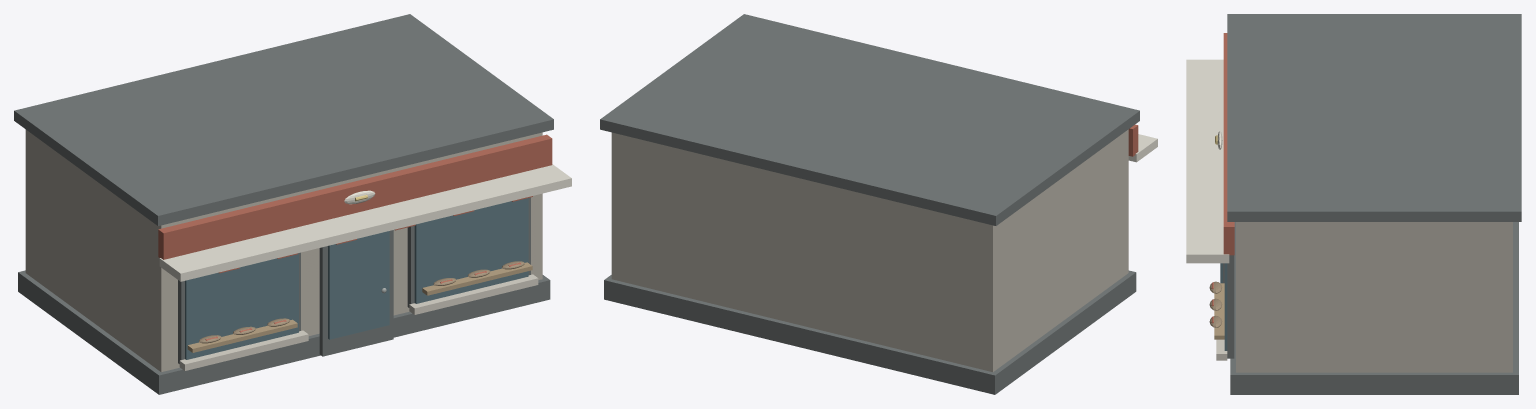
File: sandal-shop.glb
3 renders of one model, left to right at view 1: azimuth 30°, elevation 25°; view 2: azimuth 150°, elevation 25°; view 3: azimuth 270°, elevation 25°, orthographic. The views are drawn at different scales.
Parts seen in each view (by area): view 1: dark plinth, masonry shell, shop glass, fascia, awning, sill, display shelf, sandal sole; view 2: masonry shell, dark plinth; view 3: dark plinth, masonry shell, awning, fascia, shop glass, display shelf, sandal sole.
Part boxes in pixels (x1,y1,x2,y2): dark plinth: (14, 14, 553, 394); masonry shell: (25, 129, 542, 372); shop glass: (185, 198, 528, 359); fascia: (158, 134, 552, 340); awning: (159, 164, 571, 281); sill: (179, 274, 538, 370); display shelf: (187, 262, 532, 352); sandal sole: (199, 261, 524, 343); masonry shell: (611, 129, 1128, 371); dark plinth: (600, 14, 1139, 394); dark plinth: (1223, 14, 1521, 394); masonry shell: (1236, 222, 1512, 372); awning: (1186, 59, 1229, 263); fascia: (1211, 33, 1234, 323); shop glass: (1220, 263, 1227, 350); display shelf: (1214, 283, 1224, 339); sandal sole: (1209, 281, 1222, 327).
Bounding box in the file's own units: 8.1 × 3.53 × 5.82.
